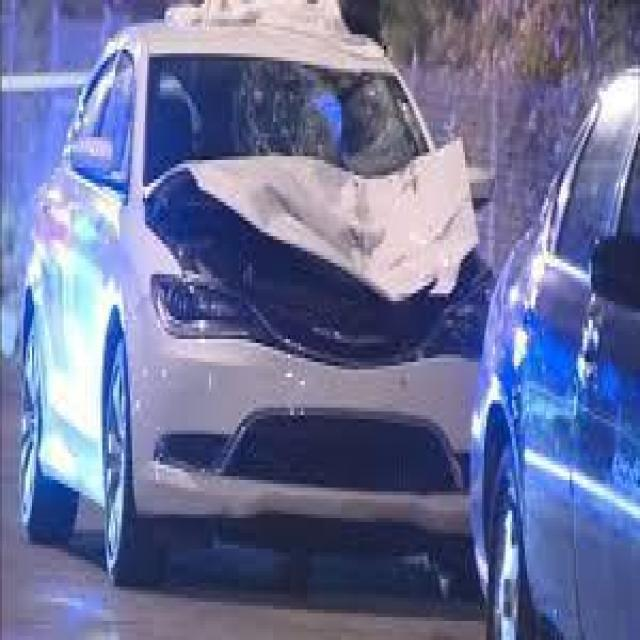damaged: (142, 144, 486, 332)
